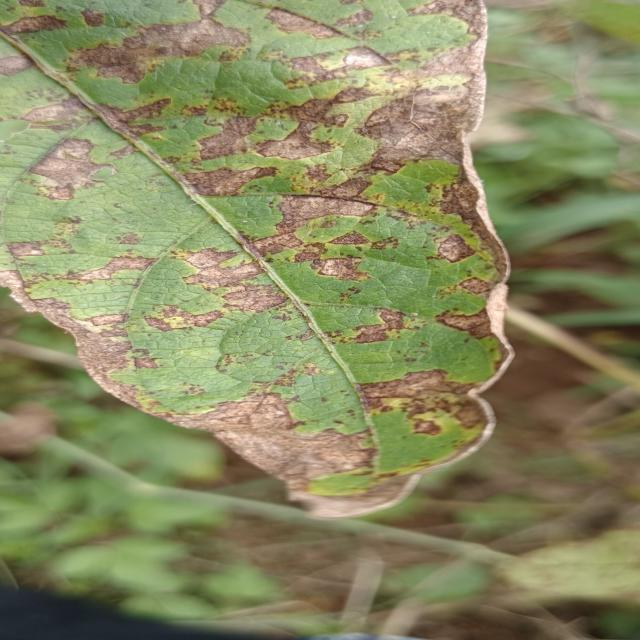Black gram_leaf spot: (0, 0, 526, 524)
